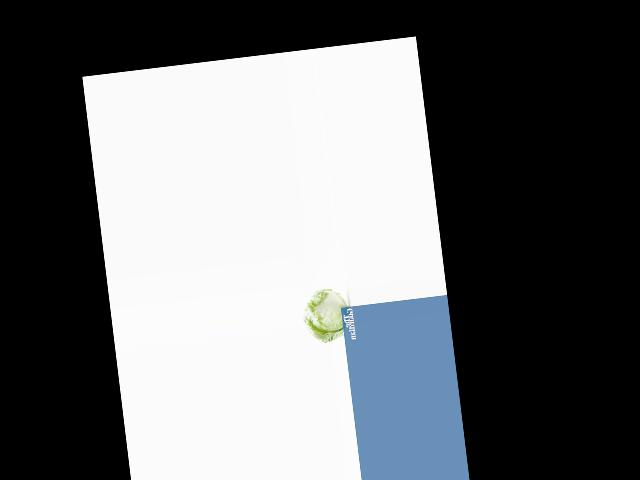lettuce: (297, 287, 350, 344)
